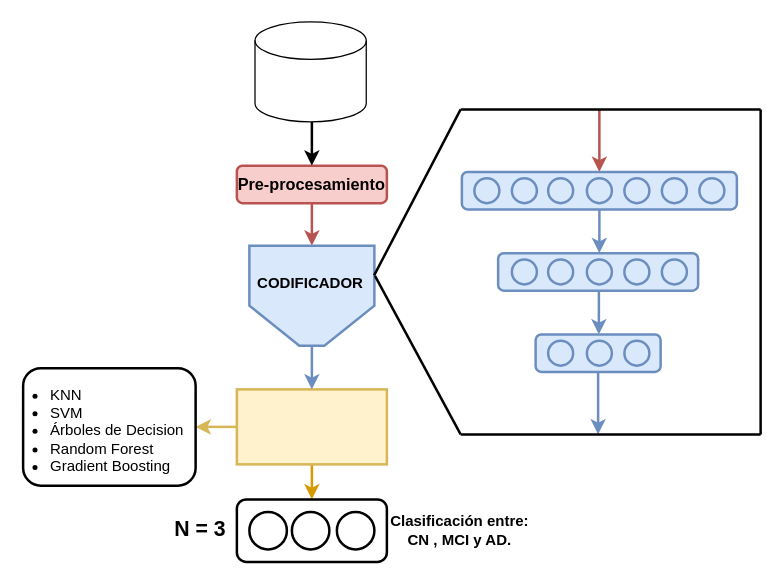
This 784x585 diagram has some shape labels left out. The centre of each missing label's shape, as x and y in pixels:
"MODELO DE APRENDIZAJE TRADICIONAL" goes at point (311, 426).
"TADPOLE CHALLENGE" goes at point (310, 71).
